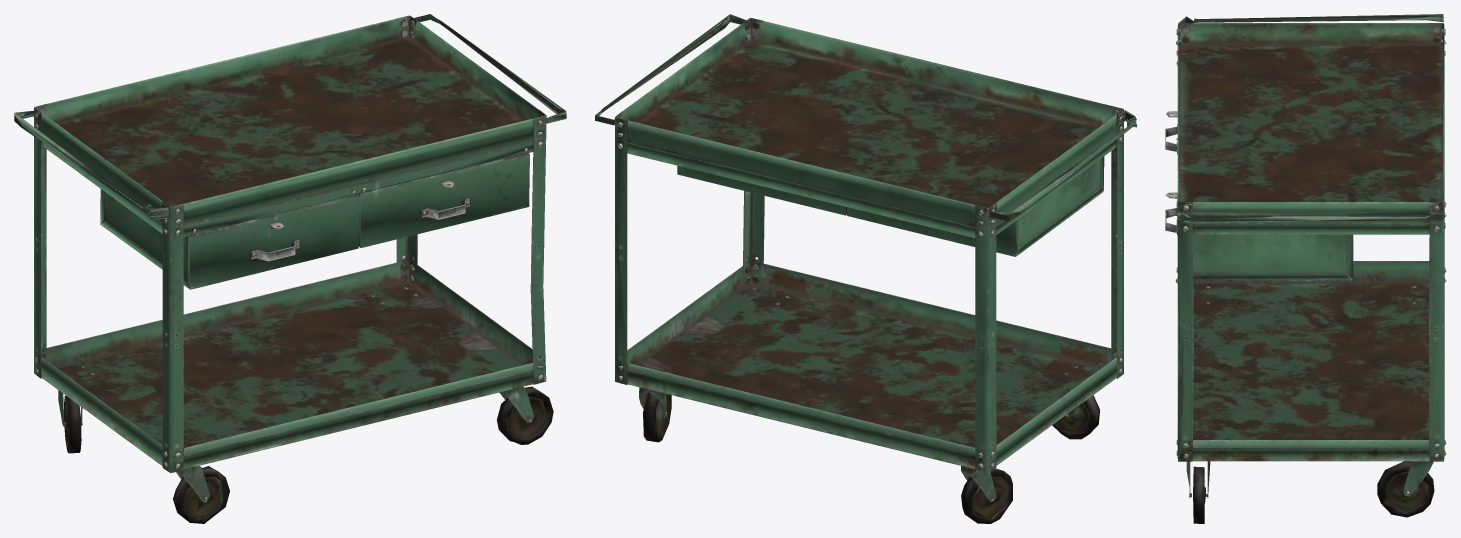
Rendered from tool_cart.glb.
The picture shows the model from 3 angles, left to right: view 1: azimuth 30°, elevation 25°; view 2: azimuth 150°, elevation 25°; view 3: azimuth 270°, elevation 25°; orthographic projection. The views are drawn at different scales.
Parts seen in each view (by area): view 1: tool_cart; view 2: tool_cart; view 3: tool_cart.
Part boxes in pixels (left/top/right/bottom): tool_cart: left=14, top=14, right=566, bottom=523; tool_cart: left=595, top=14, right=1136, bottom=523; tool_cart: left=1165, top=14, right=1446, bottom=523.
Bounding box in the file's own units: 1.27 × 0.9619 × 0.7522.
1 material, 1 textured.
